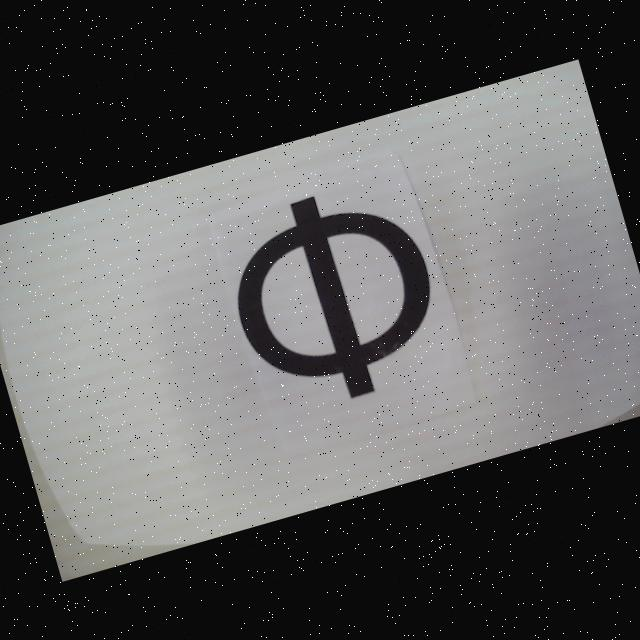PHI: (212, 170, 456, 422)
